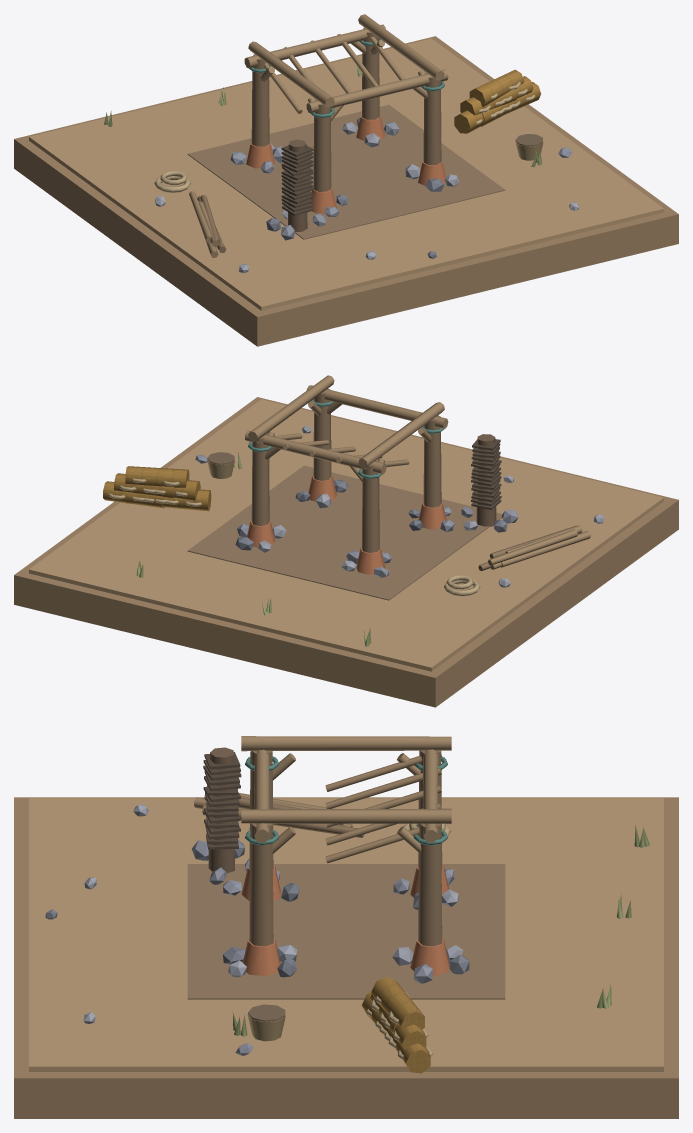
The model's file is num-3-construction.glb.
3 views of the same model, one above another, from view 1: azimuth 30°, elevation 25°; view 2: azimuth 150°, elevation 25°; view 3: azimuth 270°, elevation 25° (orthographic). The views are drawn at different scales.
Visible parts, largest first — view 1: era1; view 2: era1; view 3: era1.
Part boxes in pixels (x1,y1,x2,y2): era1: (14,14,678,346); era1: (14,375,678,707); era1: (14,736,678,1118).
Bounding box in the file's own units: 13.58 × 4.57 × 13.4.
Materials: 19 (1 with a texture image).
